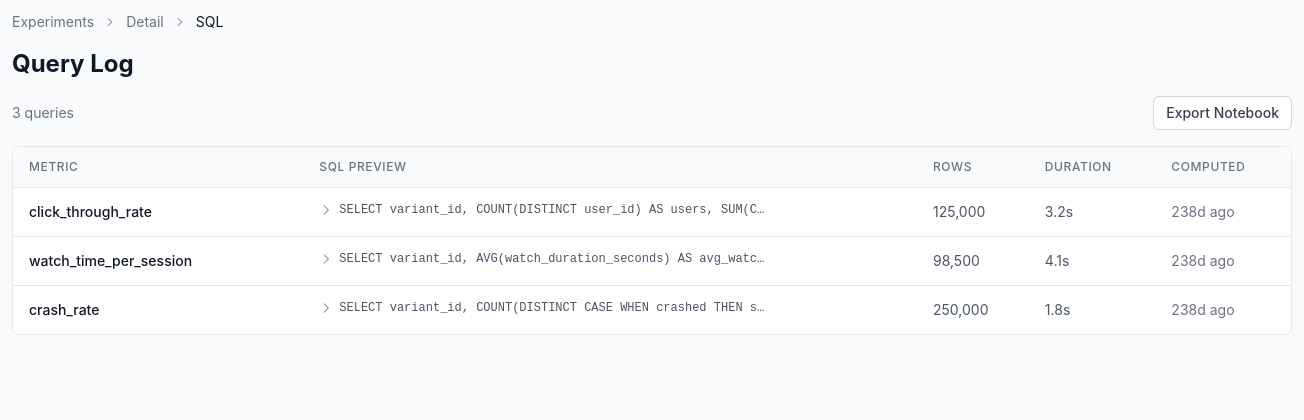
Test: SQL Page › expands row to show full SQL text and renders accessible copy button
The image size is (1304, 420).
Expected: the text "click_through_rate" is shown, [29,202,152,222]
Step 1. Click the button with aria-label "Toggle SQL preview" → (543, 210), box [319,202,767,218]
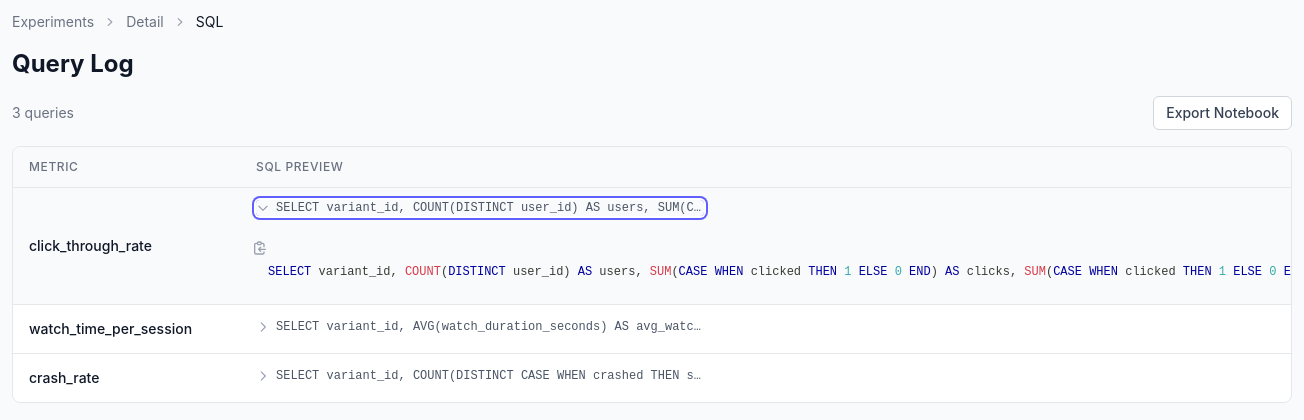
Expected: the button with aria-label "Toggle SQL preview" is expanded, [256,200,704,216]
Expected: the button named "Copy SQL to clipboard" is shown, [248,236,272,260]
